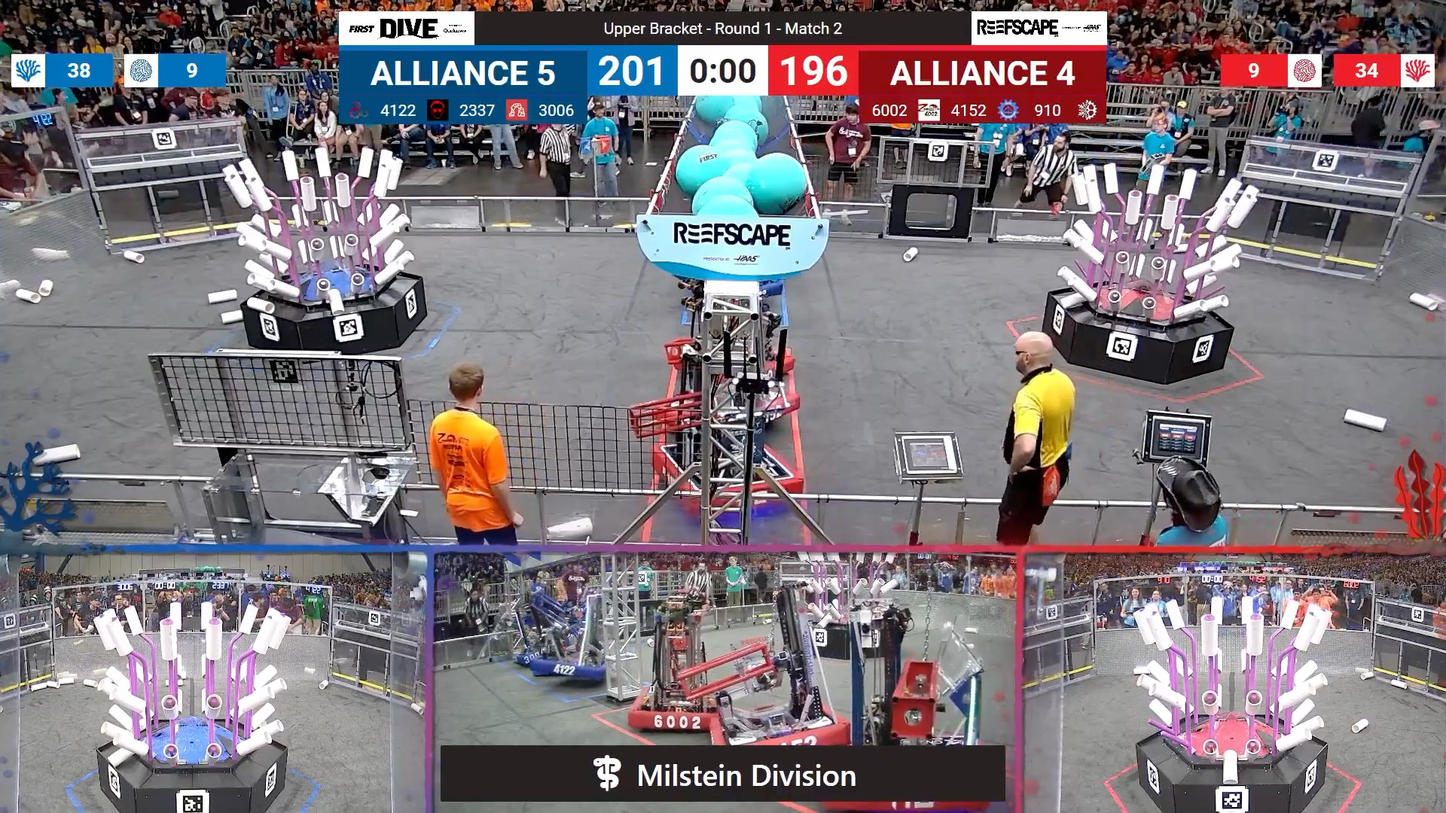bumpers: (646, 437, 804, 517), (708, 704, 847, 751), (520, 656, 617, 684)
